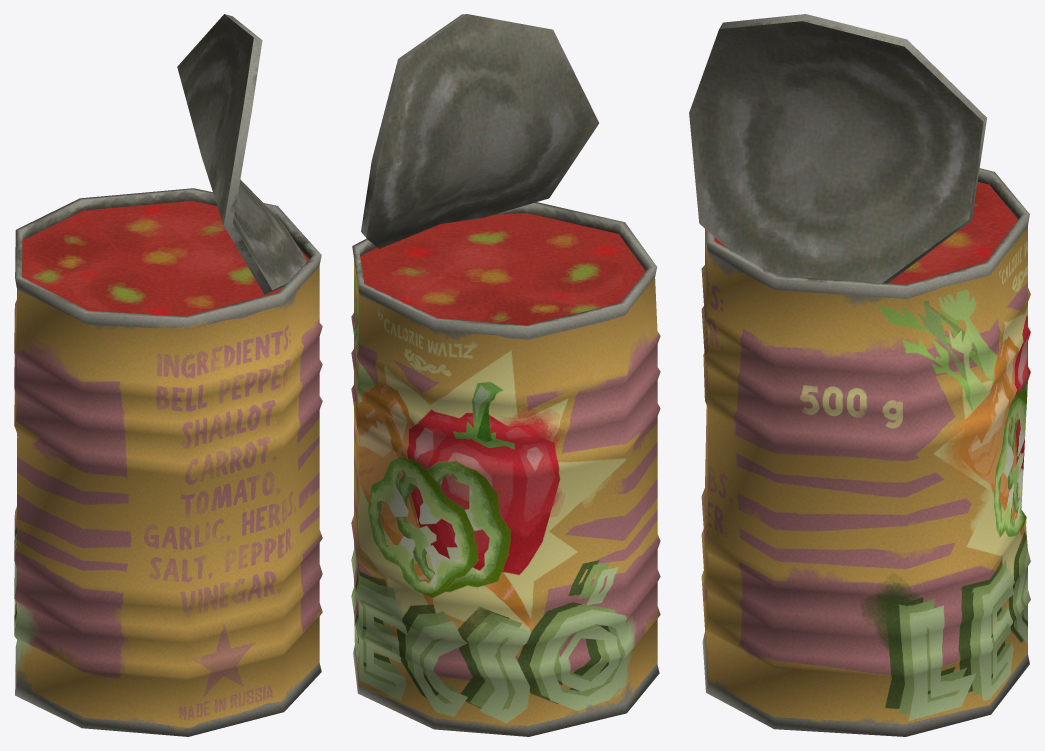
File: GEAR_lecso_opened.fbx
3 renders of one model, left to right at view 1: azimuth 30°, elevation 25°; view 2: azimuth 150°, elevation 25°; view 3: azimuth 270°, elevation 25°, orthographic. The views are drawn at different scales.
Parts seen in each view (by area): view 1: lecso_opened; view 2: lecso_opened; view 3: lecso_opened.
Part boxes in pixels (x1,y1,x2,y2): lecso_opened: (14, 14, 322, 736); lecso_opened: (351, 14, 660, 736); lecso_opened: (689, 14, 1030, 736).
Size of the model in its own units: 12.44 by 27.73 by 12.5.
1 material, 1 textured.
